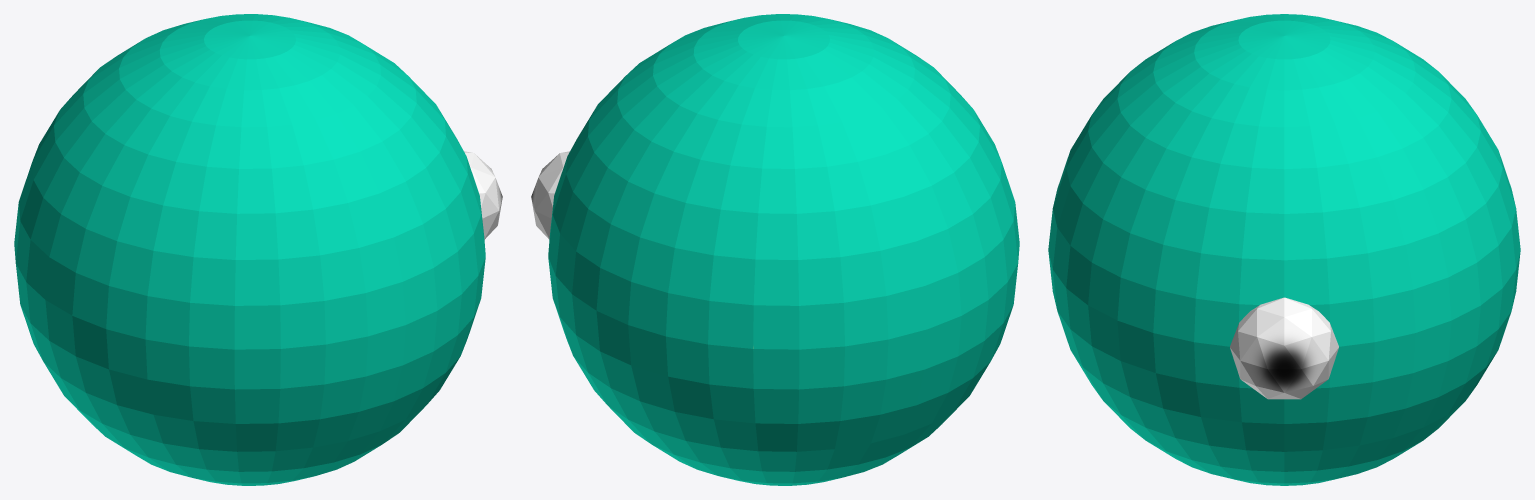
Rendered from BossBody.obj.
3 views of the same model, side by side, from view 1: azimuth 30°, elevation 25°; view 2: azimuth 150°, elevation 25°; view 3: azimuth 270°, elevation 25° (orthographic).
Parts seen in each view (by area): view 1: 球, ICO球; view 2: 球, ICO球; view 3: 球, ICO球.
Part boxes in pixels (left/top/right/bottom): 球: left=14, top=14, right=485, bottom=485; ICO球: left=464, top=151, right=502, bottom=239; 球: left=548, top=14, right=1019, bottom=485; ICO球: left=531, top=151, right=569, bottom=239; 球: left=1048, top=14, right=1520, bottom=485; ICO球: left=1230, top=297, right=1338, bottom=399.
Bounding box in the file's own units: 9.48 × 8.64 × 8.64.
Materials: 1 (1 with a texture image).
